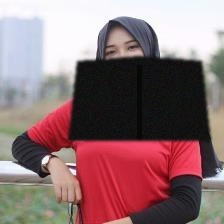Cadar_Niqab: (68, 14, 210, 140)
